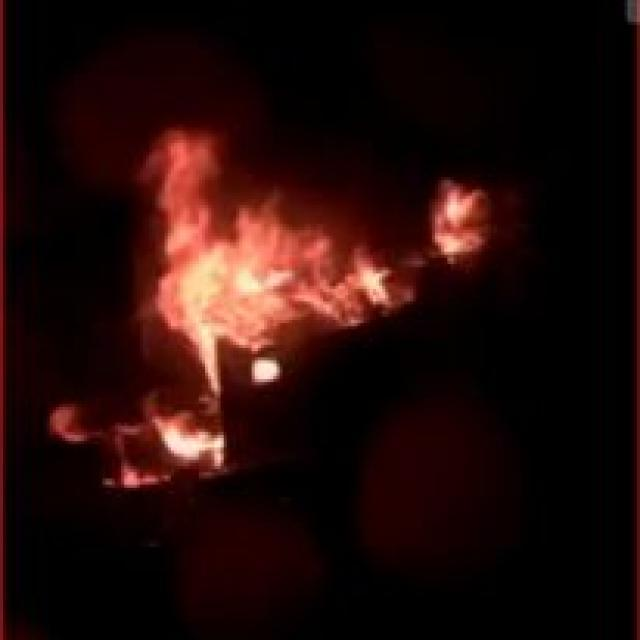Fire: (110, 122, 396, 358), (70, 379, 226, 486), (400, 188, 518, 268)
